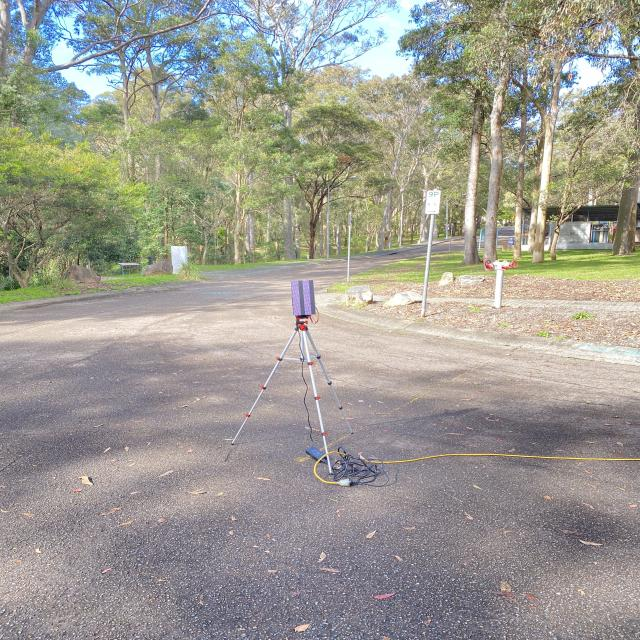matrix: (287, 278, 318, 320)
